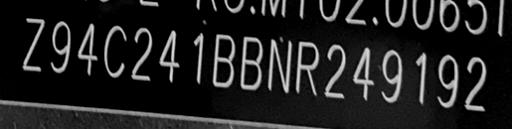letter: (260, 34, 294, 93), (320, 42, 350, 103), (375, 47, 405, 104), (97, 24, 129, 77), (430, 54, 462, 107), (17, 14, 45, 73), (296, 37, 320, 104), (208, 32, 238, 85), (463, 54, 489, 115), (350, 42, 374, 105), (153, 26, 179, 83), (182, 26, 206, 85), (406, 47, 430, 106), (46, 20, 72, 73), (240, 32, 262, 93), (130, 24, 152, 83), (74, 20, 96, 77)
